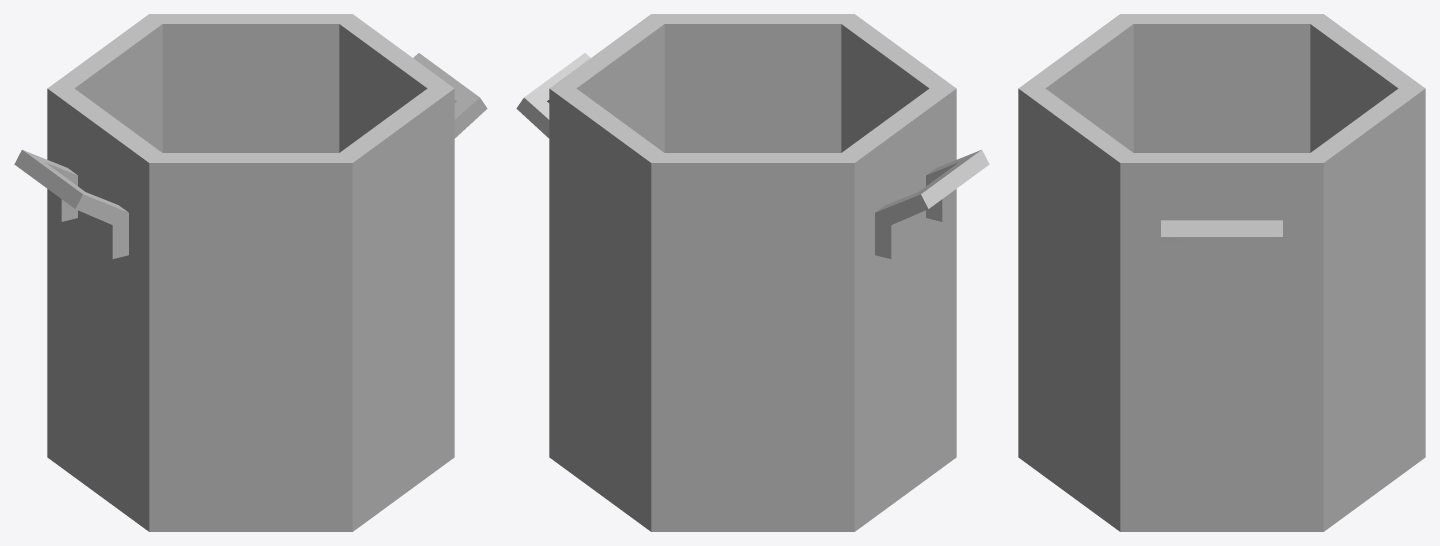
File: pot1_PLY.fbx
3 views of the same model, side by side, from view 1: azimuth 30°, elevation 25°; view 2: azimuth 150°, elevation 25°; view 3: azimuth 270°, elevation 25° (orthographic).
Parts seen in each view (by area): view 1: pot1_PLY; view 2: pot1_PLY; view 3: pot1_PLY.
Part boxes in pixels (x1,y1,x2,y2): pot1_PLY: (14,14,487,531); pot1_PLY: (516,14,989,531); pot1_PLY: (1018,14,1425,531).
Bounding box in the file's own units: 1.64 × 1.4 × 1.4.
